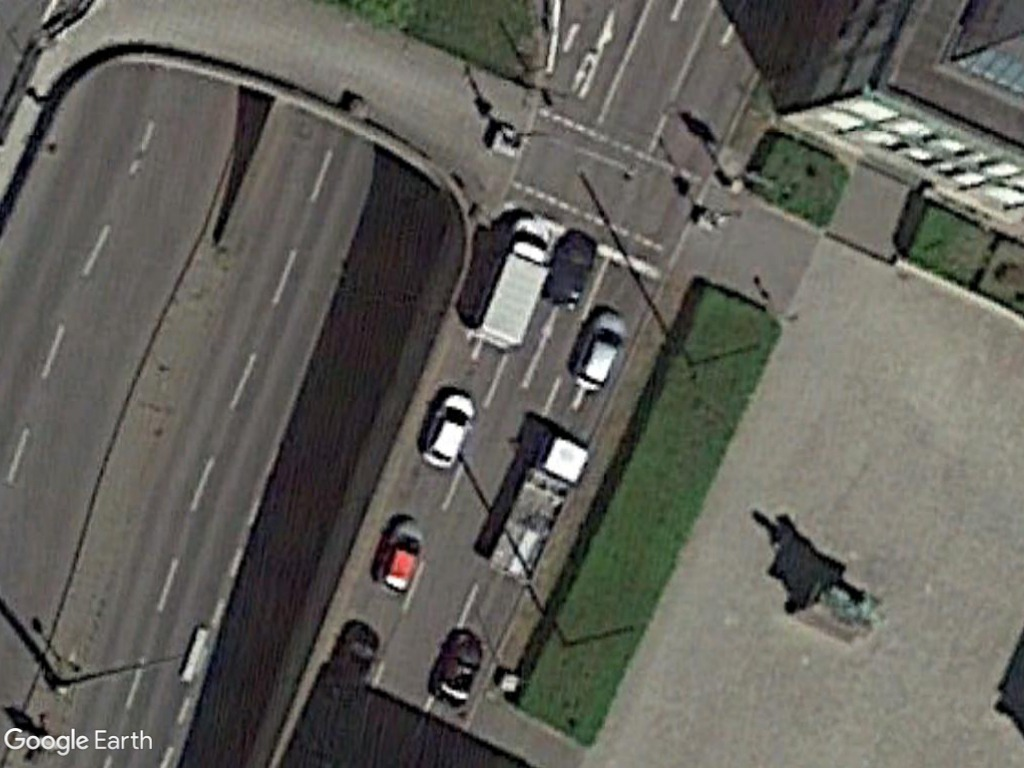car: (566, 310, 631, 398), (416, 392, 479, 477), (372, 518, 425, 597)
other: (484, 431, 592, 587)
truck: (464, 219, 558, 357)
